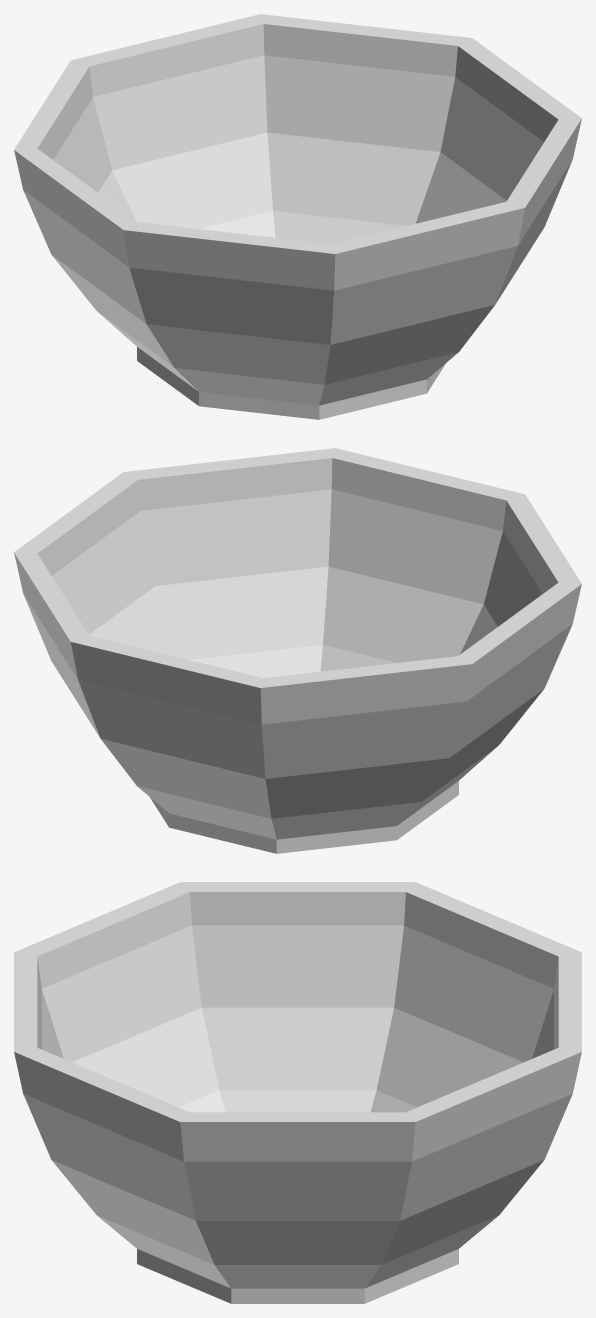
Rendered from Plate4_C1.fbx.
The picture shows the model from 3 angles, top to bottom: view 1: azimuth 30°, elevation 25°; view 2: azimuth 150°, elevation 25°; view 3: azimuth 270°, elevation 25°; orthographic projection. The views are drawn at different scales.
Parts seen in each view (by area): view 1: Plate4_C1; view 2: Plate4_C1; view 3: Plate4_C1.
Part boxes in pixels (<box>): Plate4_C1: <box>14,14,581,419</box>; Plate4_C1: <box>14,448,581,853</box>; Plate4_C1: <box>14,882,581,1303</box>.
Bounding box in the file's own units: 17.94 × 8.15 × 17.94.
